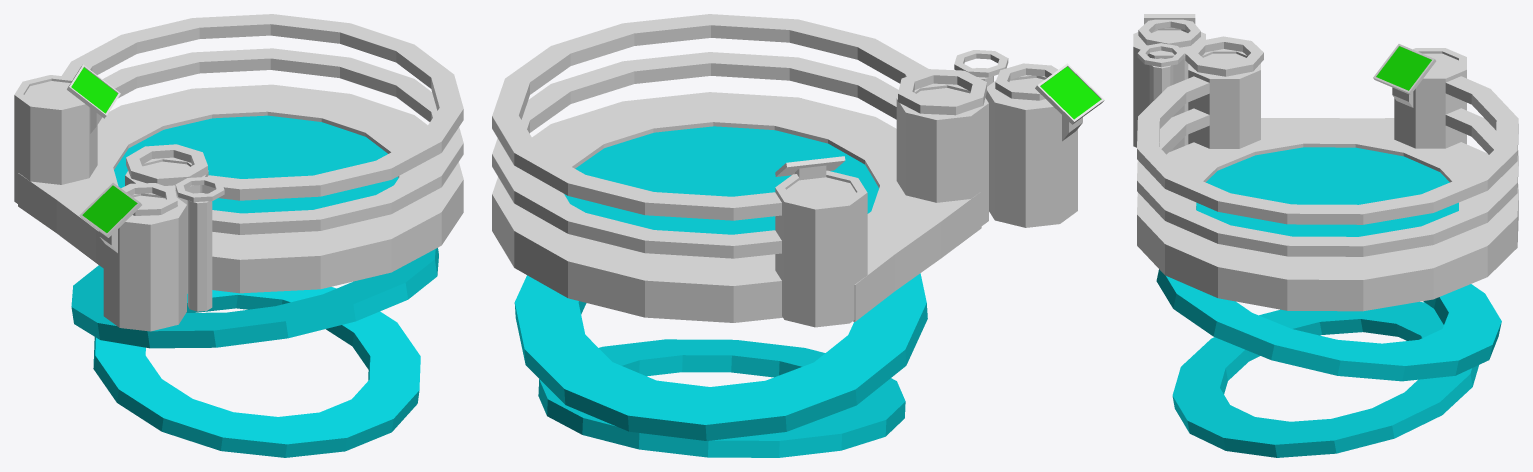
The model's file is Elevator_Export.fbx.
3 views of the same model, side by side, from view 1: azimuth 30°, elevation 25°; view 2: azimuth 150°, elevation 25°; view 3: azimuth 270°, elevation 25° (orthographic). The views are drawn at different scales.
Parts seen in each view (by area): view 1: ElevatorMain, SpinnerBottom, SpinnerTop, CallButton, Controls, CallGearShaft, ElevatorGear, CallGear, ElevatorGearHolder, CallGearDock; view 2: ElevatorMain, SpinnerTop, SpinnerBottom, Controls, CallButton, ElevatorGearHolder, ElevatorGear, CallGear, CallGearDock; view 3: ElevatorMain, SpinnerBottom, SpinnerTop, Controls, ElevatorGearHolder, CallButton, ElevatorGear, CallGear, CallGearDock, CallGearShaft.
Boxes of the visible parts, x1=… form: ElevatorMain: x1=18, y1=14, x2=463, y2=293; SpinnerBottom: x1=93, y1=287, x2=420, y2=457; SpinnerTop: x1=71, y1=248, x2=438, y2=348; CallButton: x1=79, y1=182, x2=186, y2=331; Controls: x1=14, y1=64, x2=120, y2=203; CallGearShaft: x1=187, y1=193, x2=212, y2=311; ElevatorGear: x1=126, y1=144, x2=207, y2=185; CallGear: x1=121, y1=183, x2=177, y2=215; ElevatorGearHolder: x1=125, y1=157, x2=208, y2=293; CallGearDock: x1=175, y1=177, x2=224, y2=201; ElevatorMain: x1=492, y1=14, x2=981, y2=322; SpinnerTop: x1=514, y1=273, x2=927, y2=440; SpinnerBottom: x1=538, y1=339, x2=905, y2=457; Controls: x1=775, y1=156, x2=867, y2=327; CallButton: x1=985, y1=63, x2=1104, y2=227; ElevatorGearHolder: x1=896, y1=83, x2=988, y2=225; ElevatorGear: x1=898, y1=69, x2=986, y2=115; CallGear: x1=995, y1=63, x2=1057, y2=100; CallGearDock: x1=954, y1=50, x2=1008, y2=77; ElevatorMain: x1=1137, y1=76, x2=1518, y2=311; SpinnerBottom: x1=1172, y1=301, x2=1478, y2=457; SpinnerTop: x1=1156, y1=269, x2=1501, y2=381; Controls: x1=1373, y1=44, x2=1466, y2=148; ElevatorGearHolder: x1=1188, y1=49, x2=1260, y2=148; CallButton: x1=1133, y1=14, x2=1205, y2=150; ElevatorGear: x1=1185, y1=36, x2=1263, y2=76; CallGear: x1=1138, y1=19, x2=1200, y2=47; CallGearDock: x1=1137, y1=43, x2=1184, y2=67; CallGearShaft: x1=1149, y1=58, x2=1173, y2=152.
Bounding box in the file's own units: 11.66 × 8.25 × 9.8.
